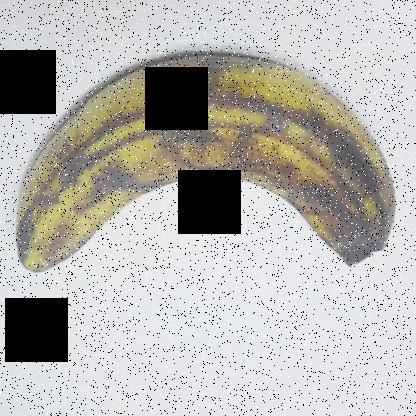overripe: (5, 38, 403, 308)
rotten: (288, 158, 412, 281)
